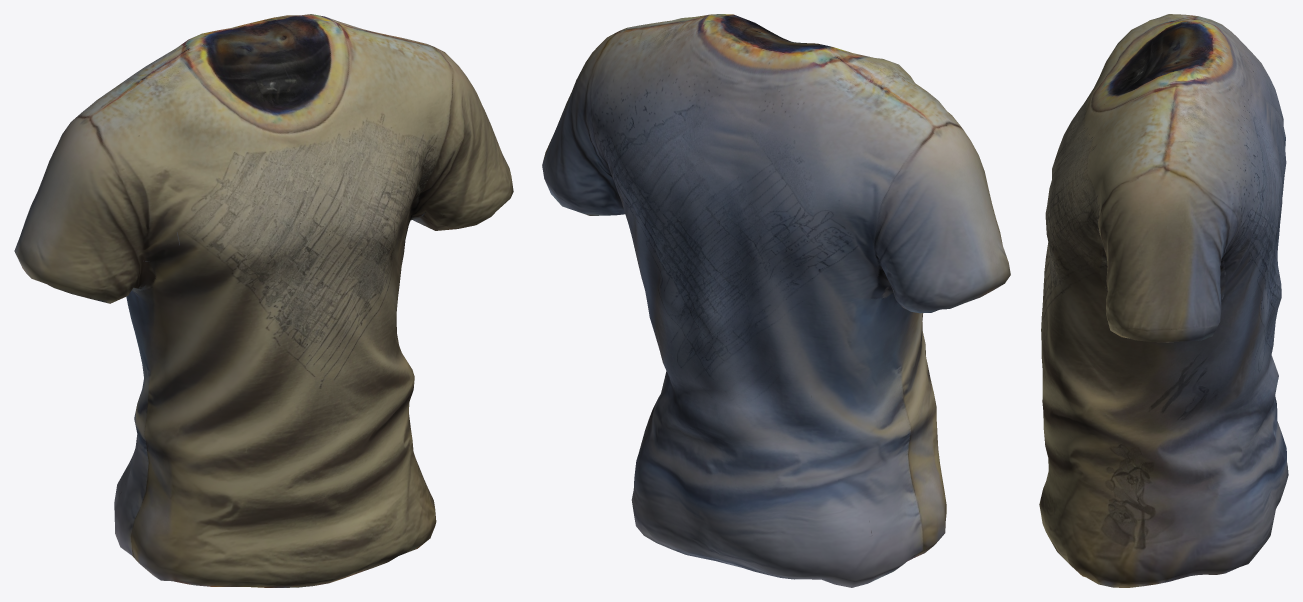
The model's file is BaseModelTshirt2.fbx.
The picture shows the model from 3 angles, left to right: view 1: azimuth 30°, elevation 25°; view 2: azimuth 150°, elevation 25°; view 3: azimuth 270°, elevation 25°; orthographic projection. The views are drawn at different scales.
Parts seen in each view (by area): view 1: Mesh_0.005; view 2: Mesh_0.005; view 3: Mesh_0.005.
Boxes of the visible parts, x1=… form: Mesh_0.005: x1=14, y1=14, x2=513, y2=587; Mesh_0.005: x1=542, y1=14, x2=1010, y2=587; Mesh_0.005: x1=1039, y1=14, x2=1288, y2=587.
Bounding box in the file's own units: 63.08 × 66.81 × 30.6.
